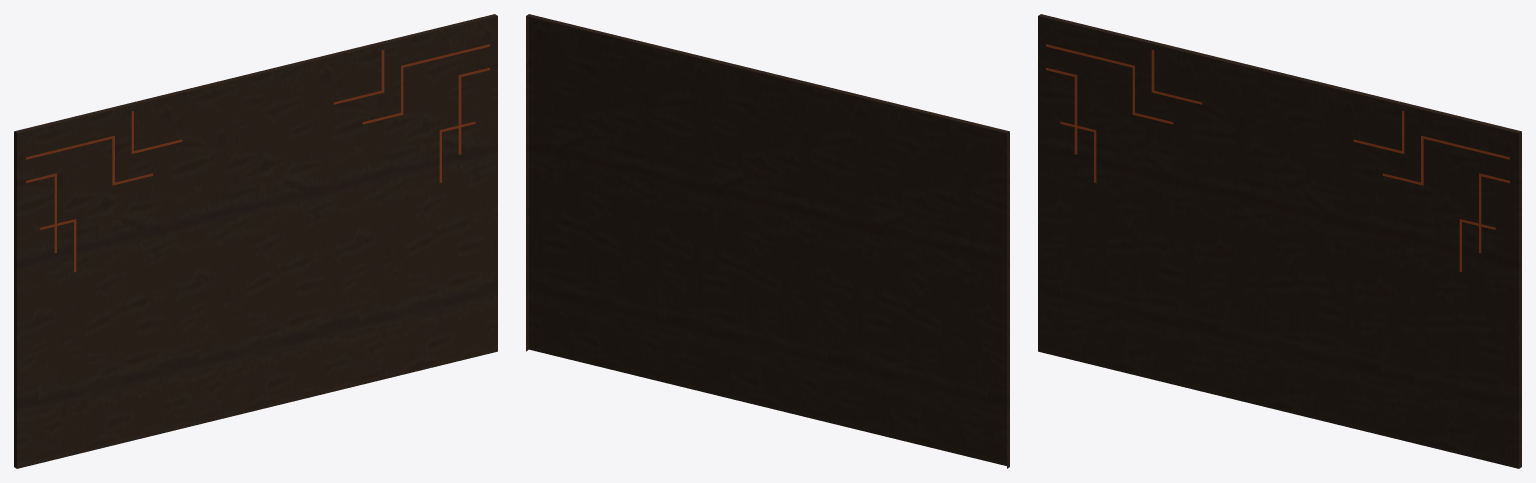
The model's file is circuit_panel.glb.
3 renders of one model, left to right at view 1: azimuth 30°, elevation 25°; view 2: azimuth 150°, elevation 25°; view 3: azimuth 330°, elevation 25°, orthographic.
Parts seen in each view (by area): view 1: circuit_panel; view 2: circuit_panel; view 3: circuit_panel.
Part boxes in pixels (box(x1,y1,x2,y2)): circuit_panel: box(14, 14, 497, 468); circuit_panel: box(526, 14, 1009, 468); circuit_panel: box(1038, 14, 1521, 468).
Size of the model in its own units: 6 by 4 by 0.072.
Materials: 2 (1 with a texture image).
